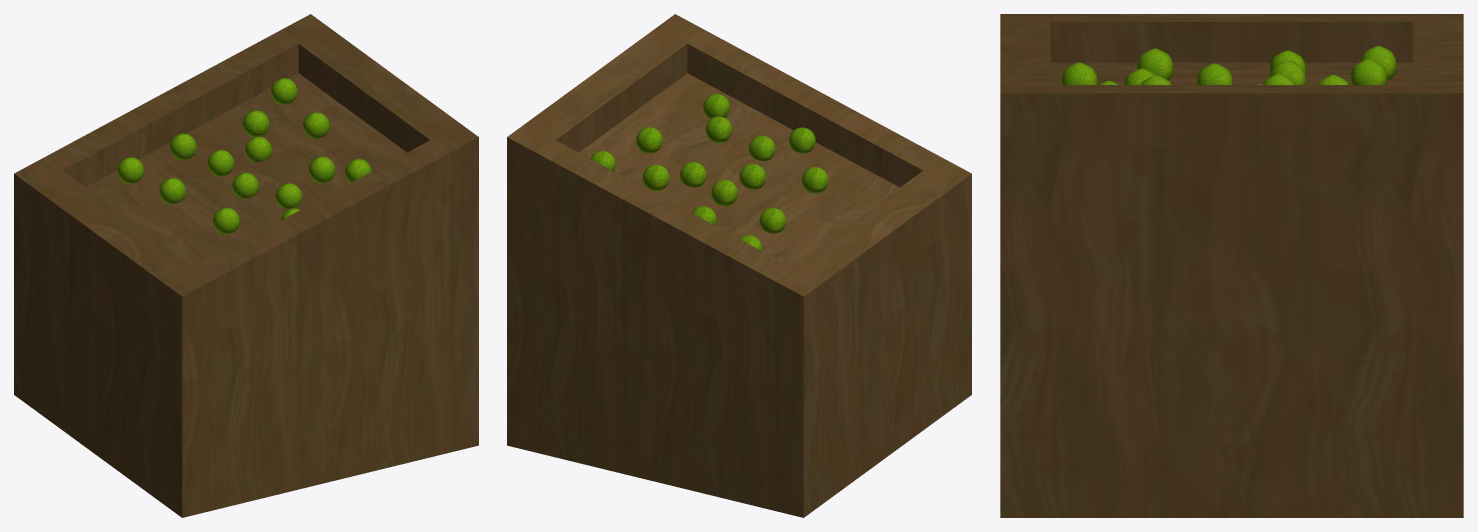
File: LIMON_SPAWNER_PRP.fbx
The picture shows the model from 3 angles, left to right: view 1: azimuth 30°, elevation 25°; view 2: azimuth 150°, elevation 25°; view 3: azimuth 270°, elevation 25°; orthographic projection. The views are drawn at different scales.
Visible parts, largest first — view 1: LIMON_SPAWNER_PRP; view 2: LIMON_SPAWNER_PRP; view 3: LIMON_SPAWNER_PRP.
Boxes of the visible parts, bbox=[...] form: LIMON_SPAWNER_PRP: bbox=[14, 14, 478, 517]; LIMON_SPAWNER_PRP: bbox=[507, 14, 971, 517]; LIMON_SPAWNER_PRP: bbox=[1000, 14, 1463, 517].
Size of the model in its own units: 47.33 by 47.02 by 46.47.
Materials: 2 (2 with a texture image).
